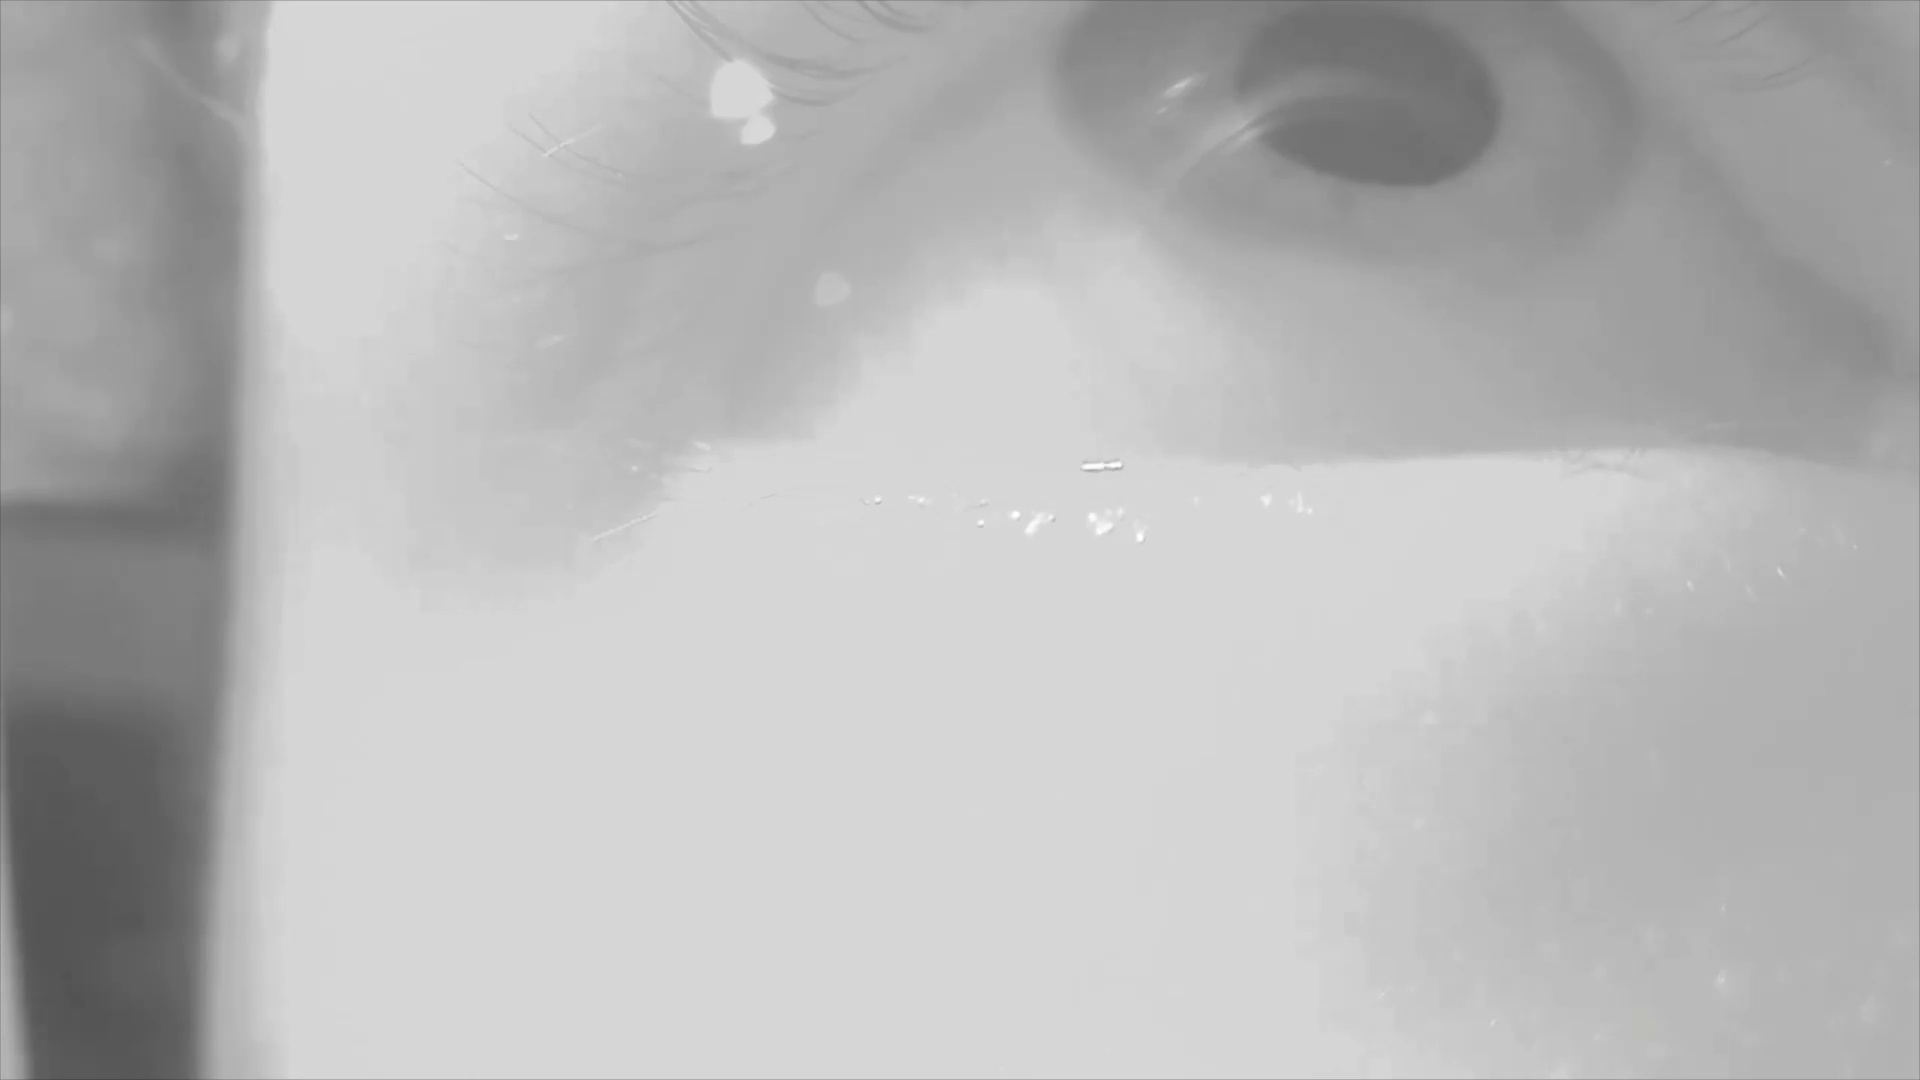pupil: (1236, 1, 1500, 188)
